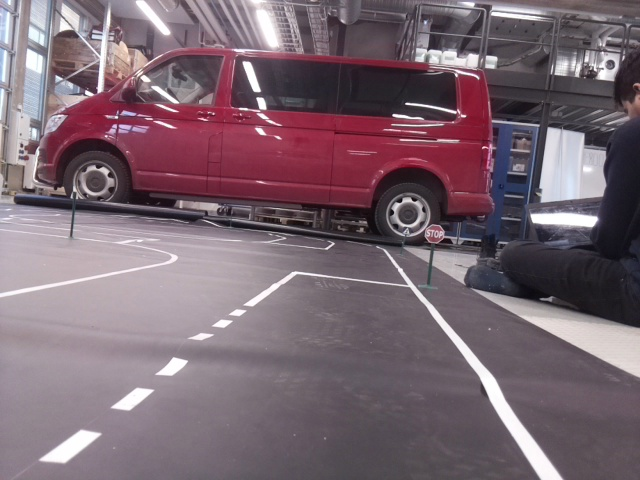Stop: (423, 221, 444, 244)
